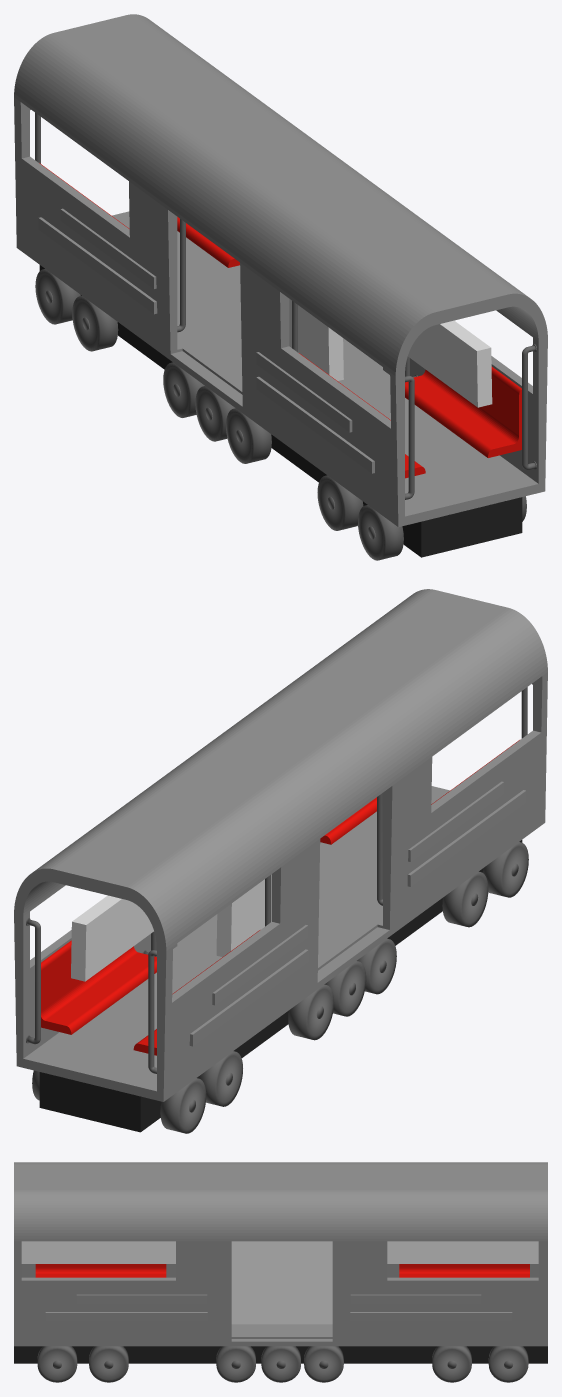
The model's file is WagonOuvert.fbx.
3 renders of one model, top to bottom at view 1: azimuth 30°, elevation 25°; view 2: azimuth 150°, elevation 25°; view 3: azimuth 270°, elevation 25°, orthographic. The views are drawn at different scales.
Visible parts, largest first — view 1: Structure Wagon, Roues, Banc, Forme fenêtre/porte, Dessous Wagon, Tuyau; view 2: Structure Wagon, Roues, Banc, Forme fenêtre/porte, Dessous Wagon, Tuyau; view 3: Structure Wagon, Forme fenêtre/porte, Roues, Dessous Wagon, Banc.
Part boxes in pixels (box(x1,y1,x2,y2)): Structure Wagon: box(14, 14, 547, 527); Roues: box(35, 269, 526, 560); Banc: box(39, 163, 521, 478); Forme fenêtre/porte: box(289, 299, 492, 407); Dessous Wagon: box(39, 265, 522, 557); Tuyau: box(30, 109, 536, 499); Structure Wagon: box(14, 589, 547, 1101); Roues: box(32, 842, 528, 1133); Banc: box(41, 740, 519, 1055); Forme fenêtre/porte: box(71, 874, 271, 981); Dessous Wagon: box(39, 840, 522, 1132); Tuyau: box(26, 683, 533, 1073); Structure Wagon: box(14, 1162, 547, 1346); Forme fenêtre/porte: box(21, 1241, 538, 1324); Roues: box(37, 1346, 528, 1382); Dessous Wagon: box(14, 1346, 547, 1363); Banc: box(35, 1264, 529, 1277).
Size of the model in its own units: 440 by 703 by 1880.
